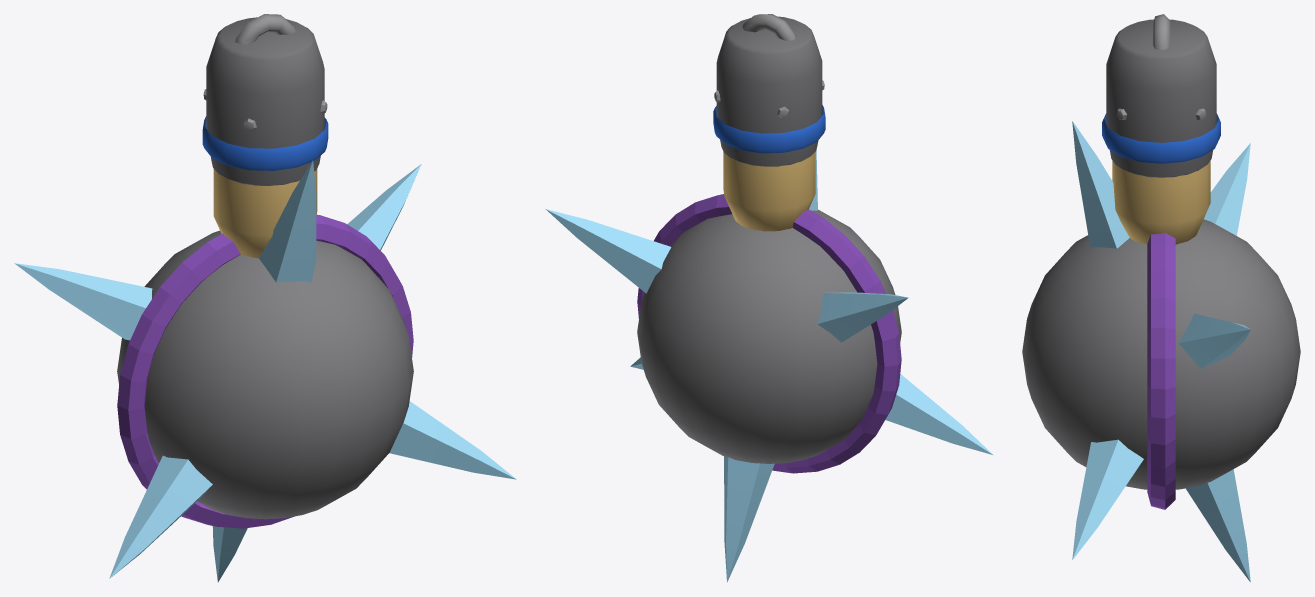
Rendered from Kit_Mace_LeagueOrb.glb.
3 views of the same model, side by side, from view 1: azimuth 30°, elevation 25°; view 2: azimuth 150°, elevation 25°; view 3: azimuth 270°, elevation 25° (orthographic). The views are drawn at different scales.
Visible parts, largest first — view 1: Kit_Mace_LeagueOrb; view 2: Kit_Mace_LeagueOrb; view 3: Kit_Mace_LeagueOrb.
Part boxes in pixels (left/top/right/bottom): Kit_Mace_LeagueOrb: left=14, top=14, right=516, bottom=582; Kit_Mace_LeagueOrb: left=545, top=14, right=993, bottom=582; Kit_Mace_LeagueOrb: left=1022, top=14, right=1300, bottom=582.
Bounding box in the file's own units: 0.2697 × 0.381 × 0.17.
